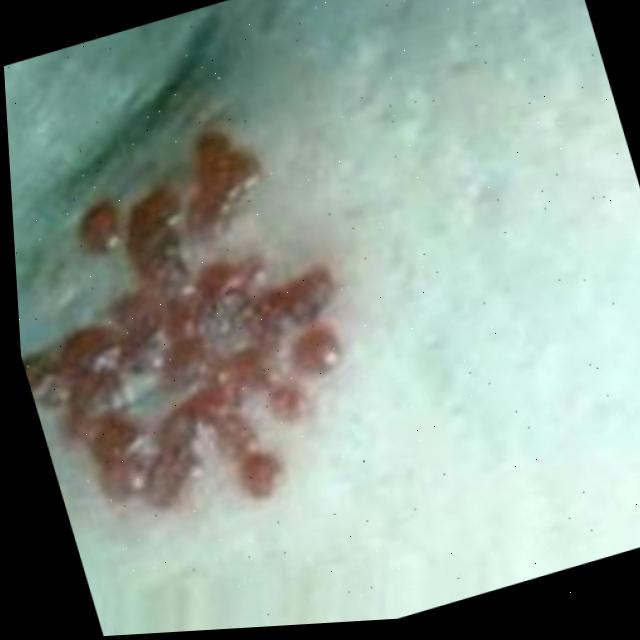Shingles: (7, 94, 400, 557)
